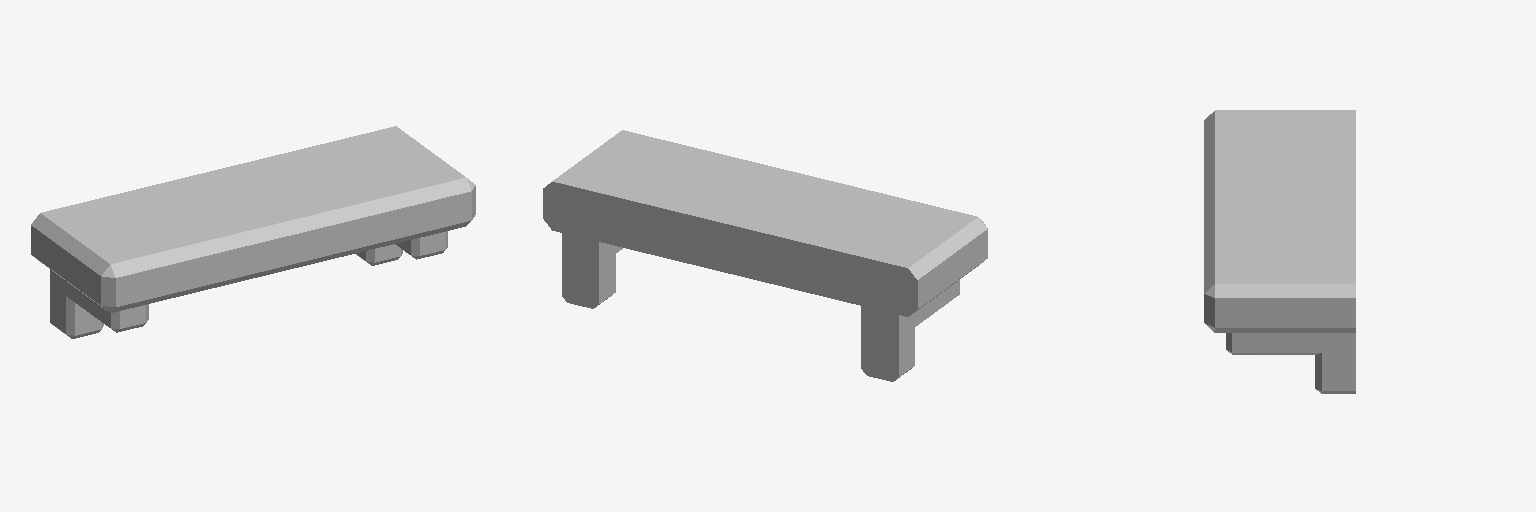
File: wall_shelf.obj
3 views of the same model, side by side, from view 1: azimuth 30°, elevation 25°; view 2: azimuth 150°, elevation 25°; view 3: azimuth 270°, elevation 25° (orthographic).
Visible parts, largest first — view 1: wall_shelf; view 2: wall_shelf; view 3: wall_shelf.
Part boxes in pixels (x1,y1,x2,y2): wall_shelf: (31, 126, 475, 338); wall_shelf: (543, 130, 987, 381); wall_shelf: (1204, 110, 1355, 393).
Size of the model in its own units: 2 by 0.6 by 0.7.